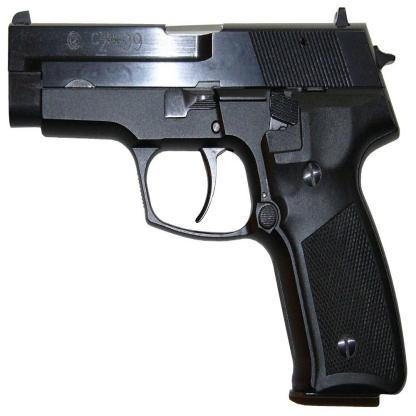gun: (6, 6, 409, 410)
